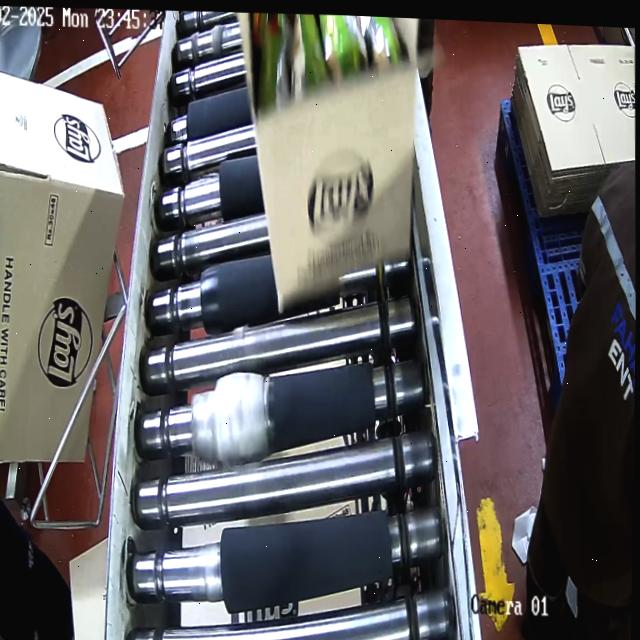YOGURT_HERB: (258, 12, 391, 87)
